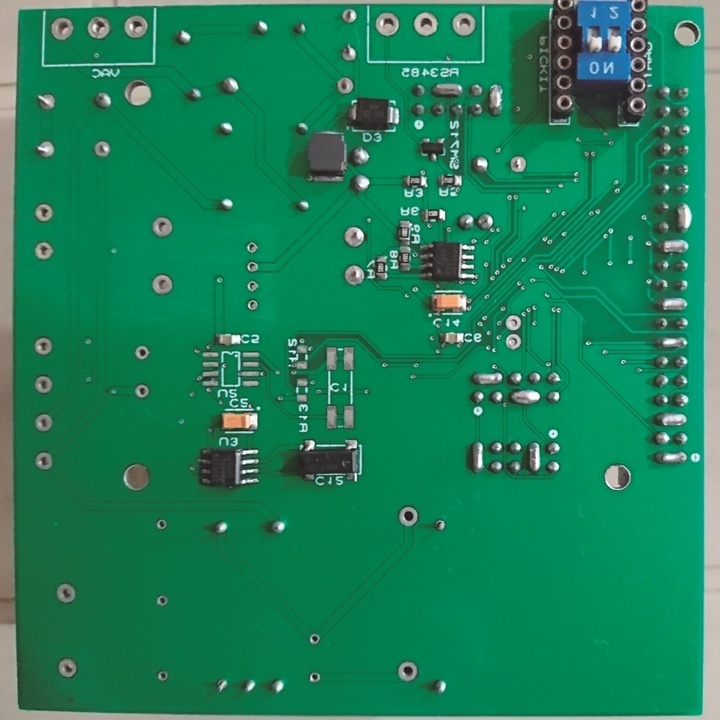F: (373, 9, 401, 41), (450, 9, 478, 40), (412, 10, 439, 40), (121, 13, 149, 40), (340, 223, 368, 250), (49, 15, 74, 43), (149, 272, 175, 298), (87, 15, 112, 41), (341, 263, 367, 288), (395, 503, 421, 527), (56, 655, 80, 680), (53, 582, 79, 605), (36, 88, 58, 115), (150, 215, 174, 239), (396, 660, 421, 683), (34, 138, 56, 162), (33, 449, 55, 473), (91, 138, 113, 160), (33, 201, 55, 223), (33, 412, 54, 435), (507, 153, 528, 176), (33, 335, 53, 358), (336, 75, 356, 96), (504, 332, 525, 352), (33, 241, 55, 260), (33, 376, 55, 395), (339, 42, 358, 63), (504, 313, 524, 332), (339, 8, 358, 26), (132, 344, 149, 363), (430, 518, 449, 535), (213, 677, 230, 696), (134, 383, 150, 402), (245, 278, 261, 295), (244, 240, 261, 255), (244, 260, 261, 274), (307, 631, 321, 647), (307, 670, 321, 686), (246, 298, 261, 312), (156, 669, 170, 684), (156, 518, 170, 533), (156, 595, 170, 608)
P: (487, 80, 507, 119), (654, 334, 690, 353), (430, 80, 466, 99), (525, 437, 542, 477), (652, 411, 689, 429), (468, 438, 486, 475), (674, 200, 693, 234), (469, 369, 504, 387), (508, 389, 541, 408), (652, 450, 689, 466), (657, 238, 691, 255), (656, 295, 688, 313)
